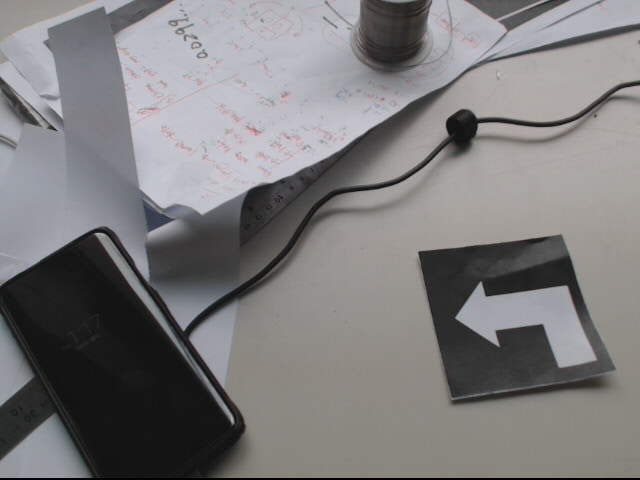left: (415, 231, 615, 401)
